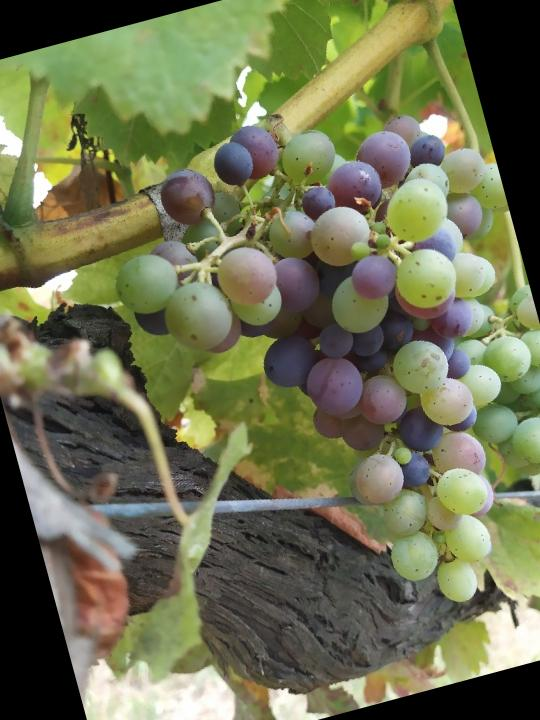grape: (80, 58, 540, 670)
